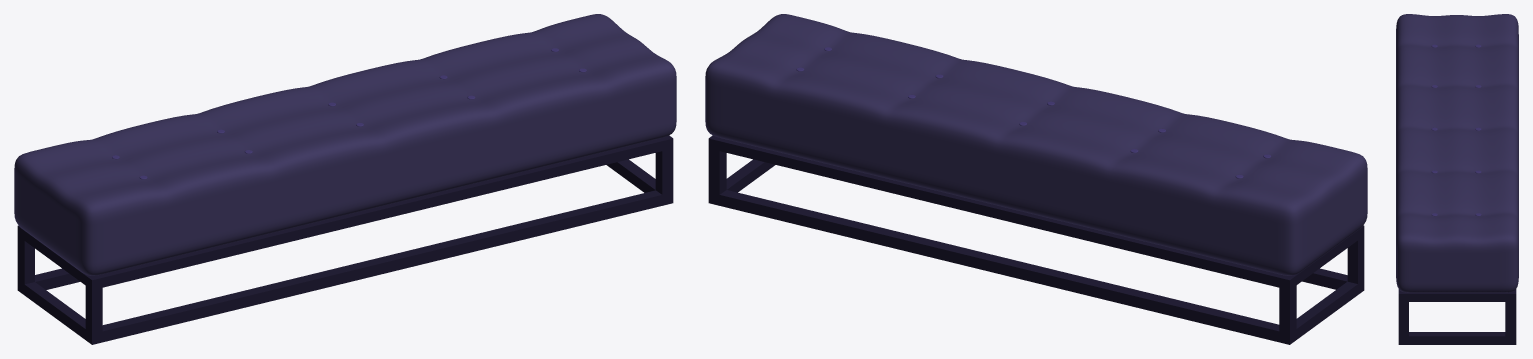
The model's file is bench.fbx.
3 views of the same model, side by side, from view 1: azimuth 30°, elevation 25°; view 2: azimuth 150°, elevation 25°; view 3: azimuth 270°, elevation 25° (orthographic). The views are drawn at different scales.
Visible parts, largest first — view 1: bench; view 2: bench; view 3: bench.
Part boxes in pixels (box(x1,y1,x2,y2)): bench: box(14, 14, 676, 344); bench: box(705, 14, 1367, 344); bench: box(1396, 14, 1518, 344).
Size of the model in its own units: 42.94 by 9.57 by 9.76.
